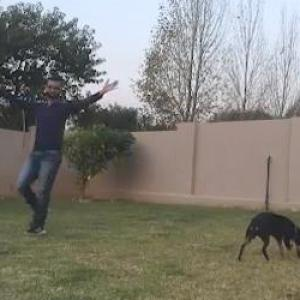takeoff: (0, 72, 141, 241)
